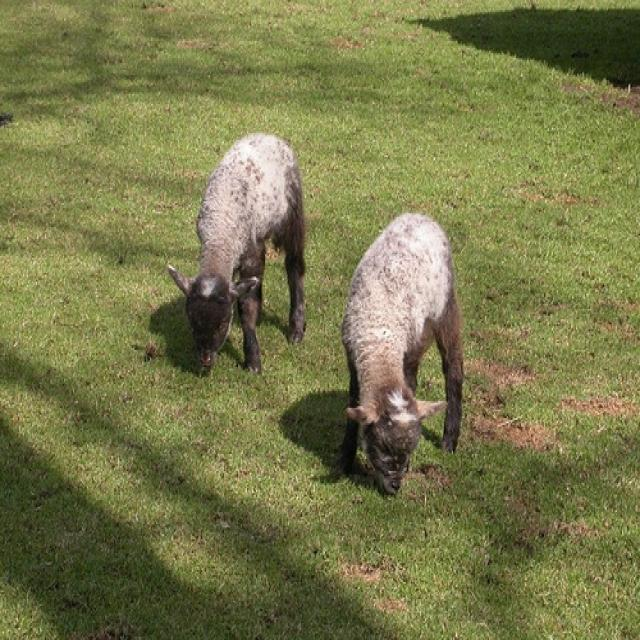sheep: (339, 211, 463, 501), (169, 133, 308, 377)
